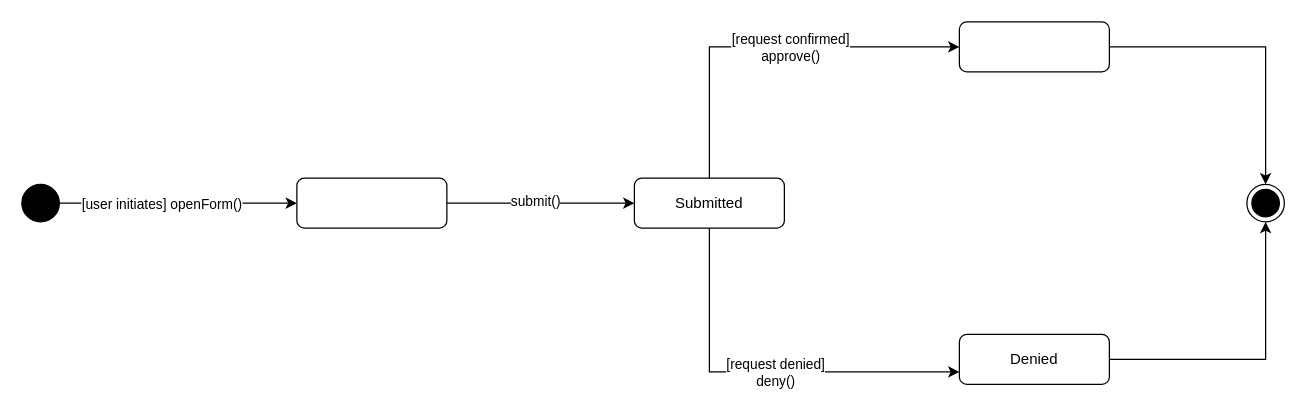
Some shapes in this 1306 by 410 pixel diagram are drawn without their labels. Here are the shapes that lost their labels. From the top down, the centre of each, then its label:
At [1033,46]: "Approved".
At [371,202]: "Draft".
